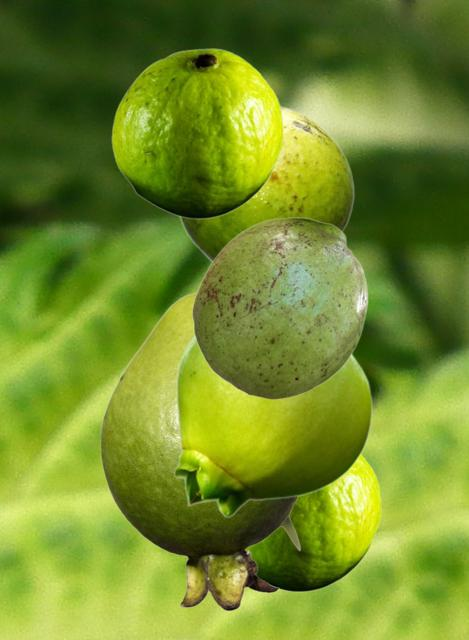guava: (100, 292, 302, 610), (173, 335, 372, 517), (191, 217, 367, 398), (111, 48, 282, 218), (178, 104, 354, 262), (249, 455, 380, 591)
